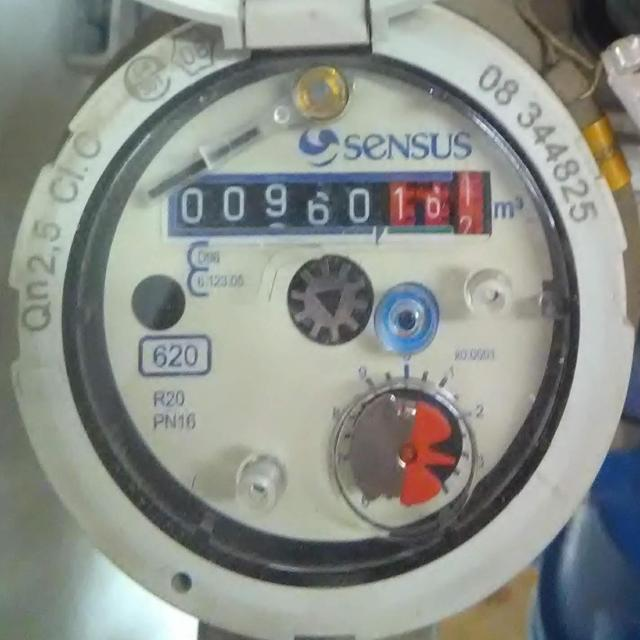gaz_meter: (95, 65, 562, 544)
indication: (165, 171, 493, 236)
